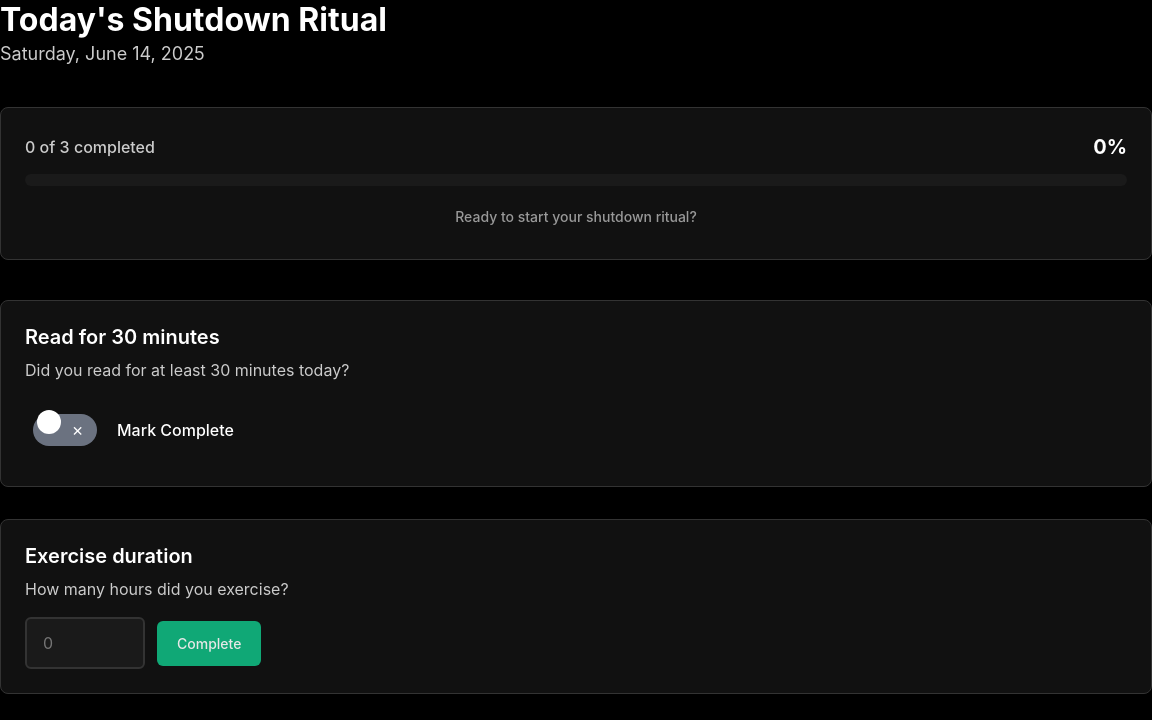
Test: DailyCompletionView › Habit Completion Tracking › should handle multiple habit completions
The image size is (1152, 720).
Expected: the heading "Read for 30 minutes" is shown, [25,325,220,349]
Expected: the heading "Exercise duration" is shown, [25,544,193,568]
Note: Complete the boolean habit
Click the switch. click: [176, 430]
box: [117,418,234,442]
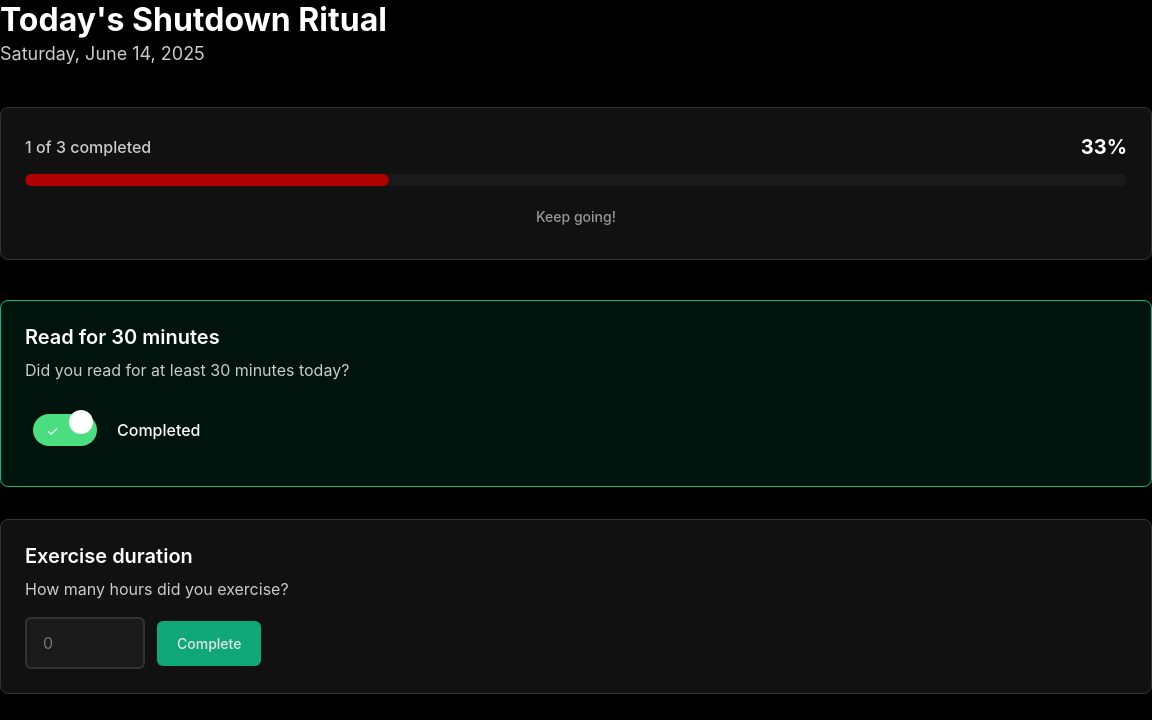
Expected: the switch is checked, [117,418,200,442]
Type "1.5" into the number field named "enter value for exercise duration". click: [85, 643]
box: [25,617,145,669]
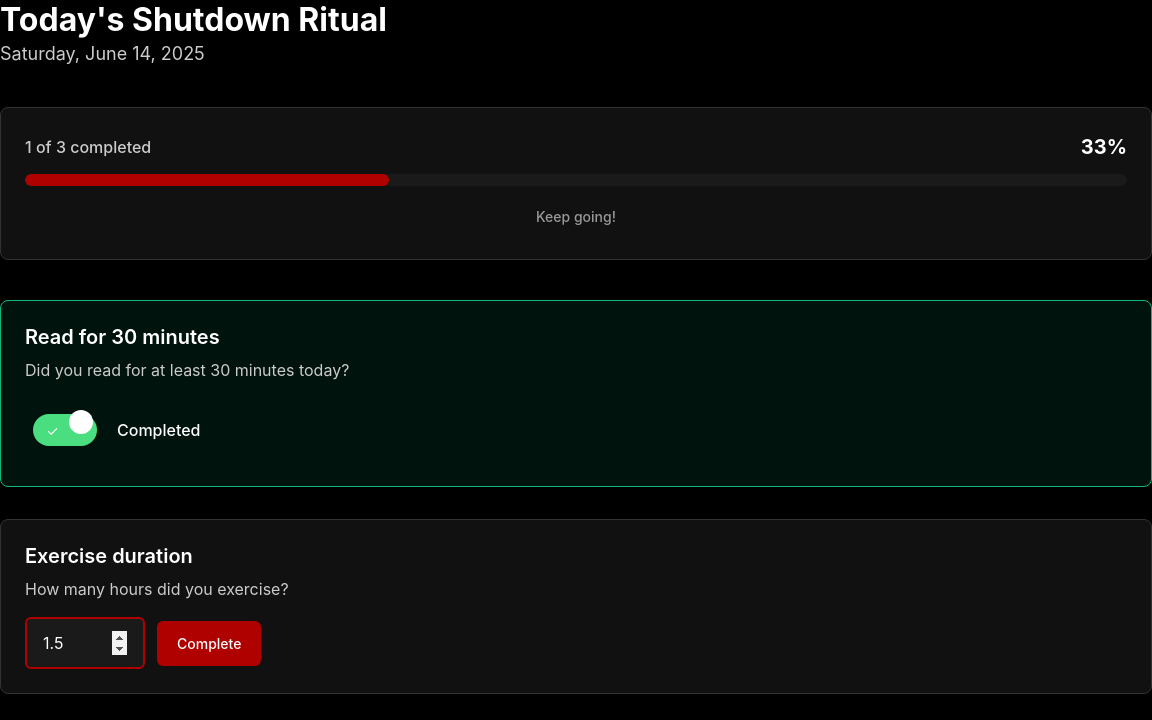
Click the button with aria-label "submit value for exercise duration". click: [209, 643]
box: [157,620,261,666]
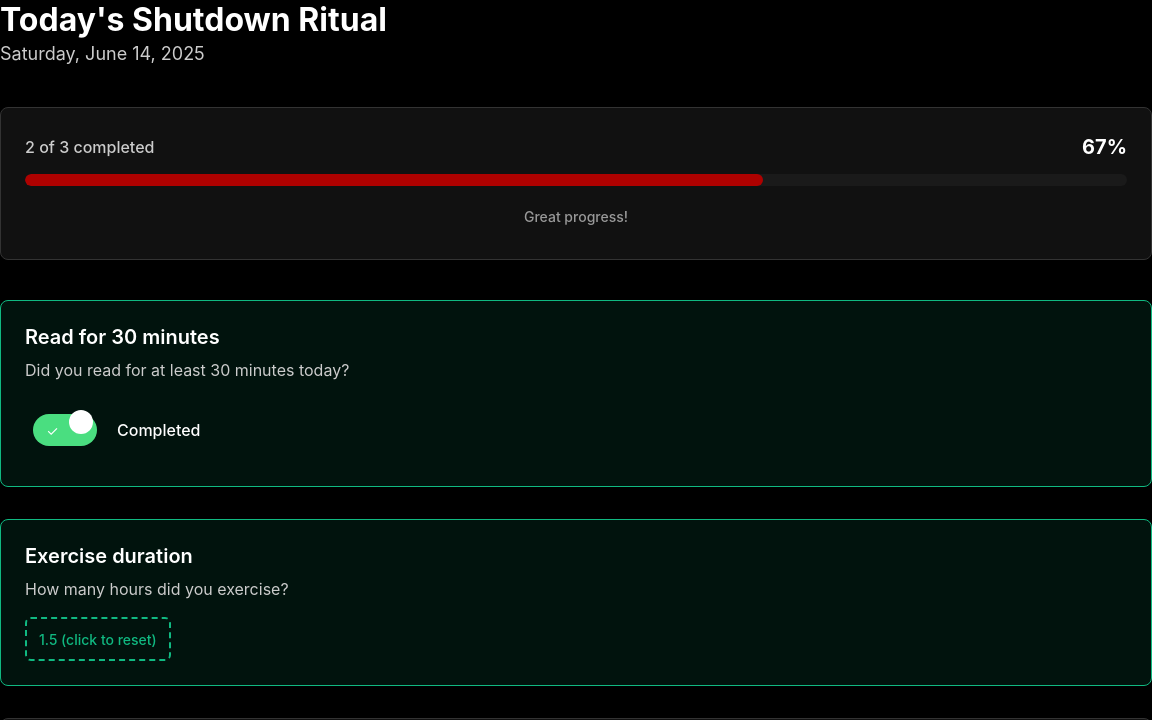
Expected: the button "1.5 (click to reset)" is shown, [25,617,171,661]
